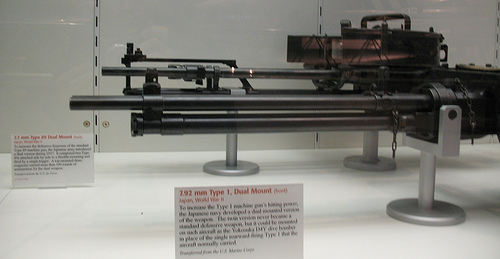rifle: (48, 44, 484, 161)
